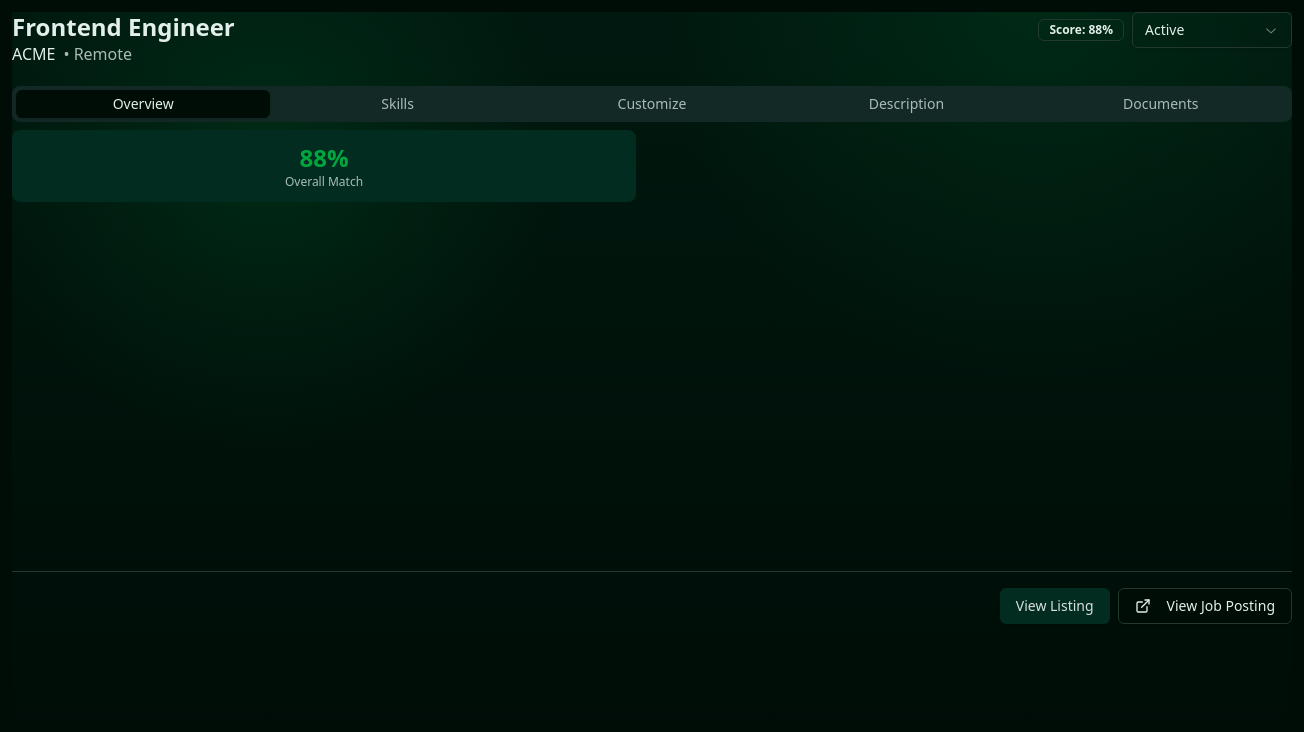
JobMatchModalContent › loads documents for a match and displays them
This screenshot has width=1304, height=732.
What coordinates should you click on to do the following:
click the tab "Documents"
I would click on:
 (1161, 104)
Its box is [1034,90,1288,118].
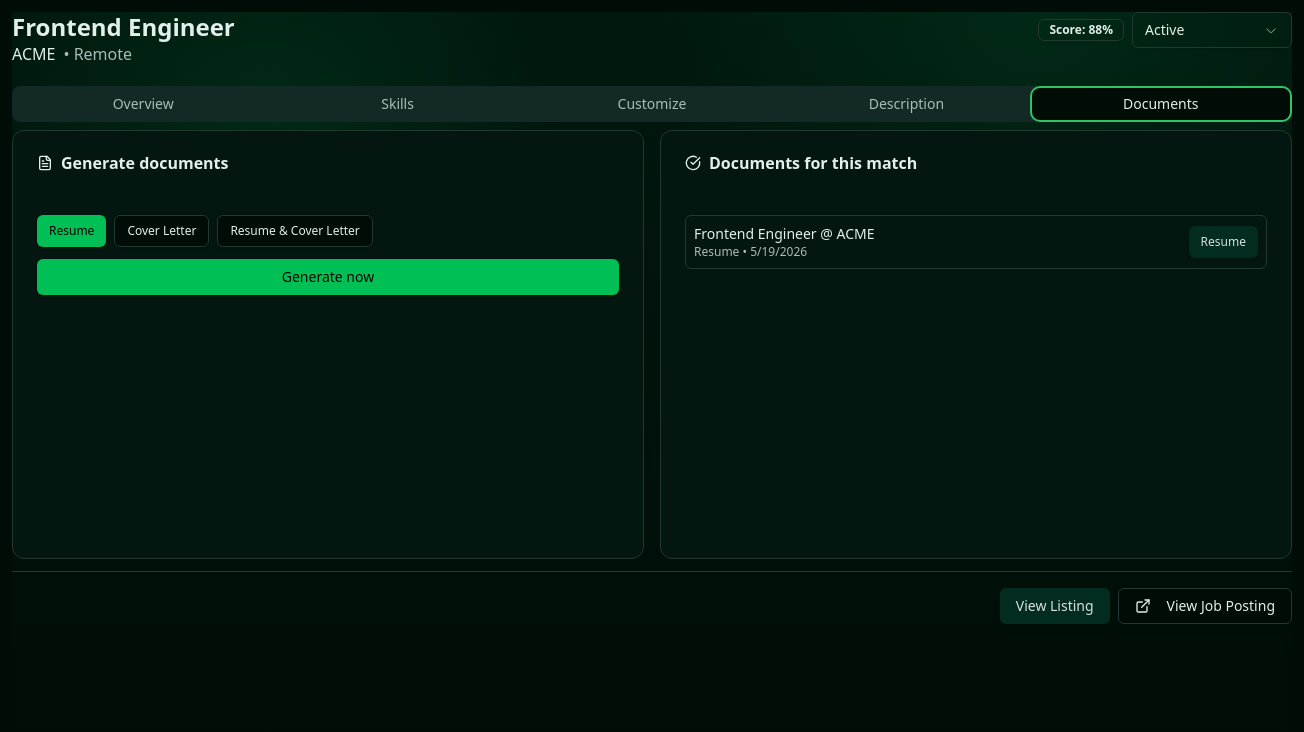
Expected: the text "Documents for this match" is shown, [685,152,917,174]
Expected: the text "Frontend Engineer @ ACME" is shown, [694,224,874,244]
